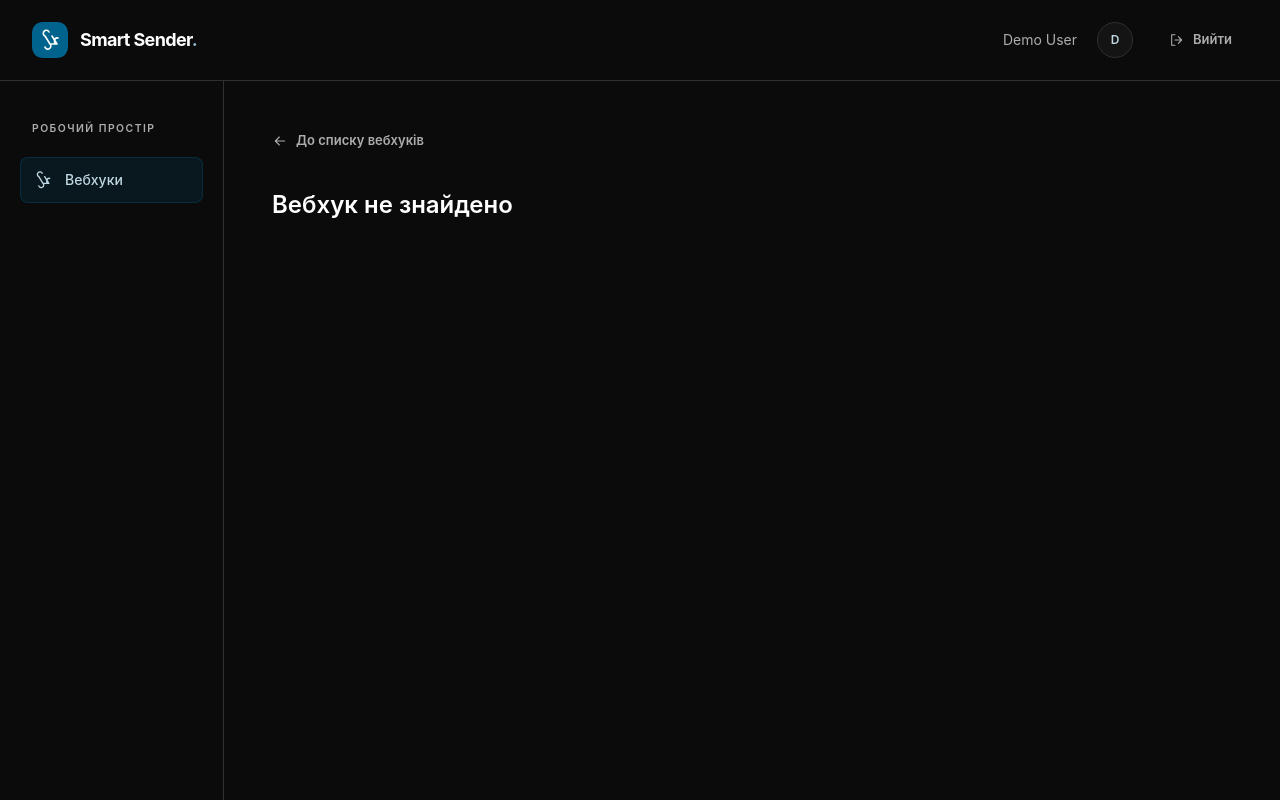
Scenario: missing or invalid webhook id 999 shows a not-found page
Expected: the heading "Вебхук не знайдено" is shown, top-left (272, 190), bottom-right (513, 219)
Click the link "До списку вебхуків": (348, 141) top-left (272, 132), bottom-right (424, 149)
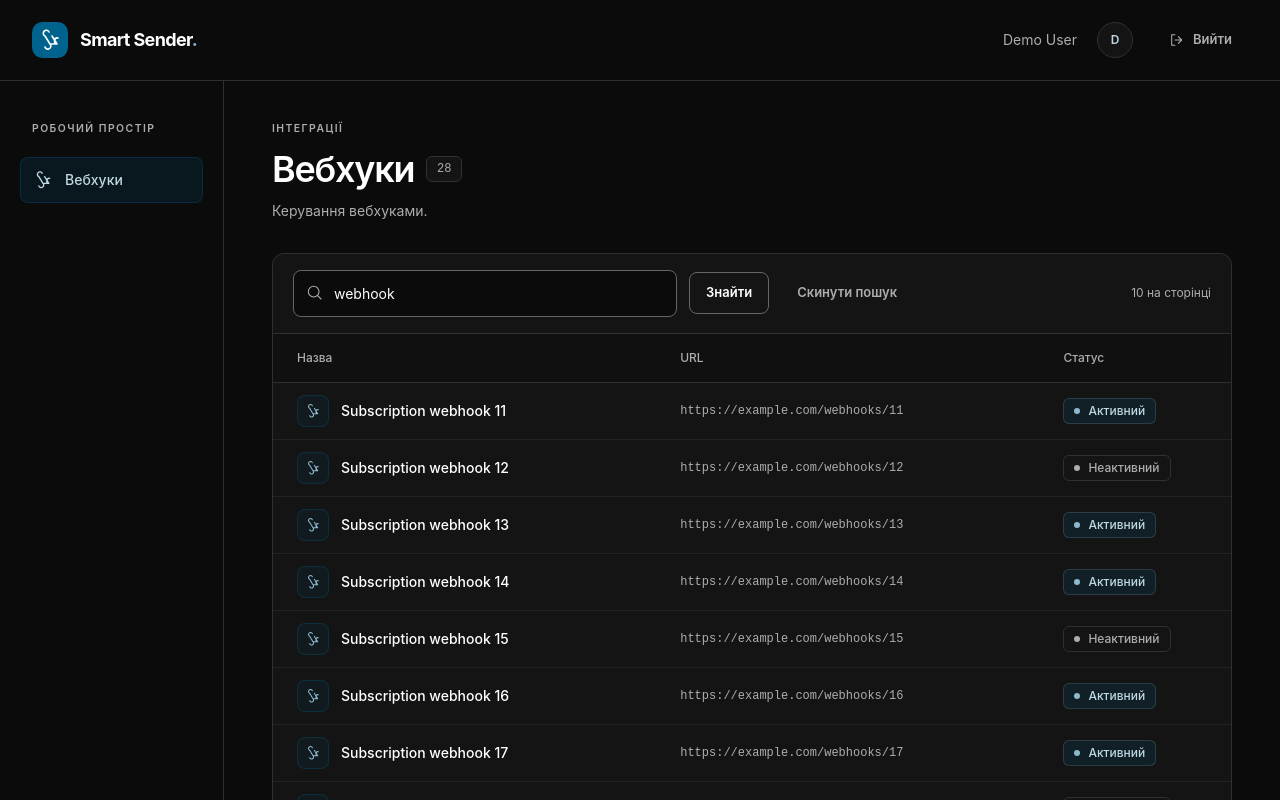
Now the link "Subscription webhook 11" is shown, box top-left (297, 395), bottom-right (532, 427)
